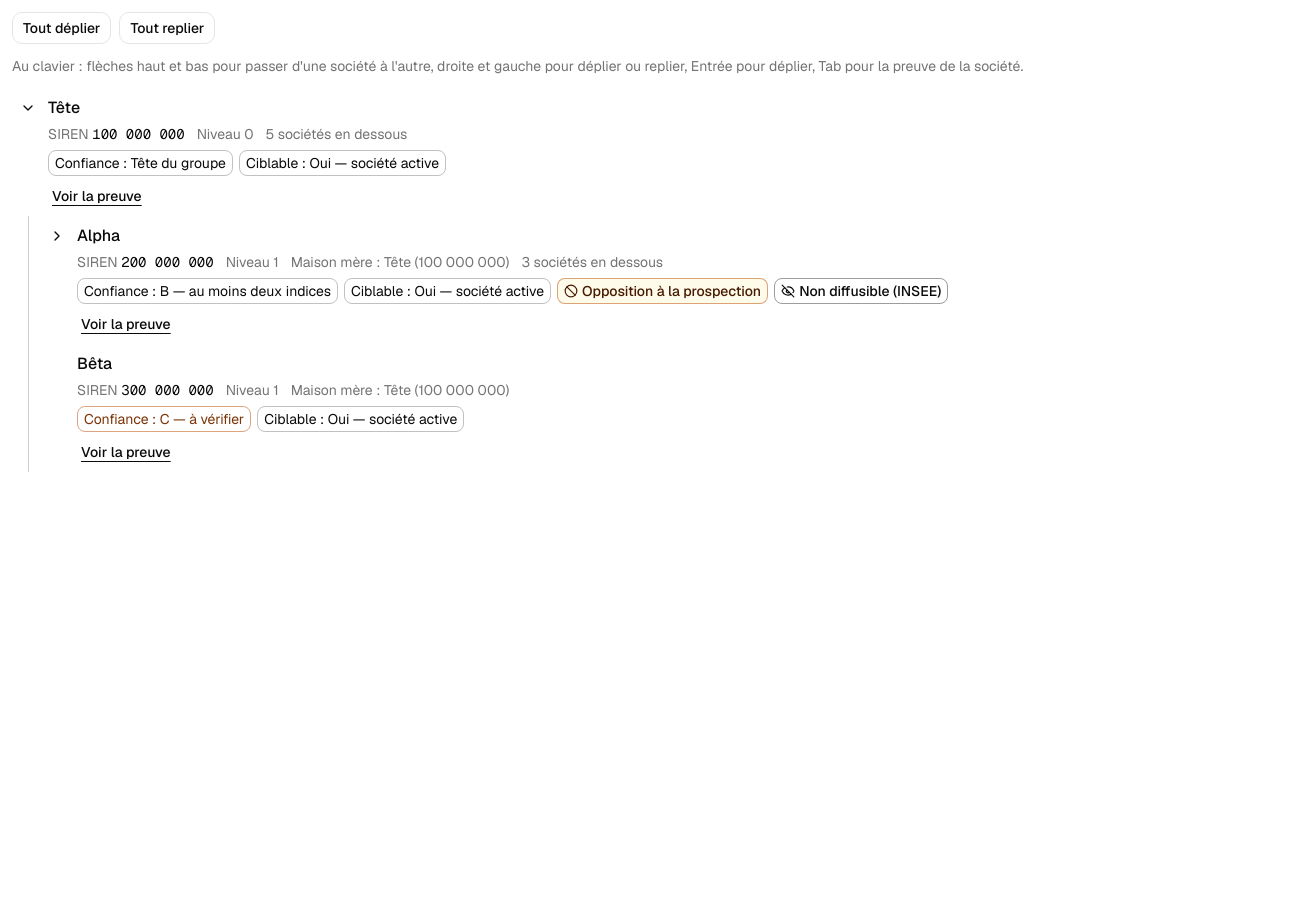
Arbre — navigation au clavier (C1) › Tout déplier et Tout replier ; l'élément actif replié passe à son ancêtre visible
The width and height of the screenshot is (1292, 912).
Click the button "Tout déplier": [62, 28] box [12,12,111,44]
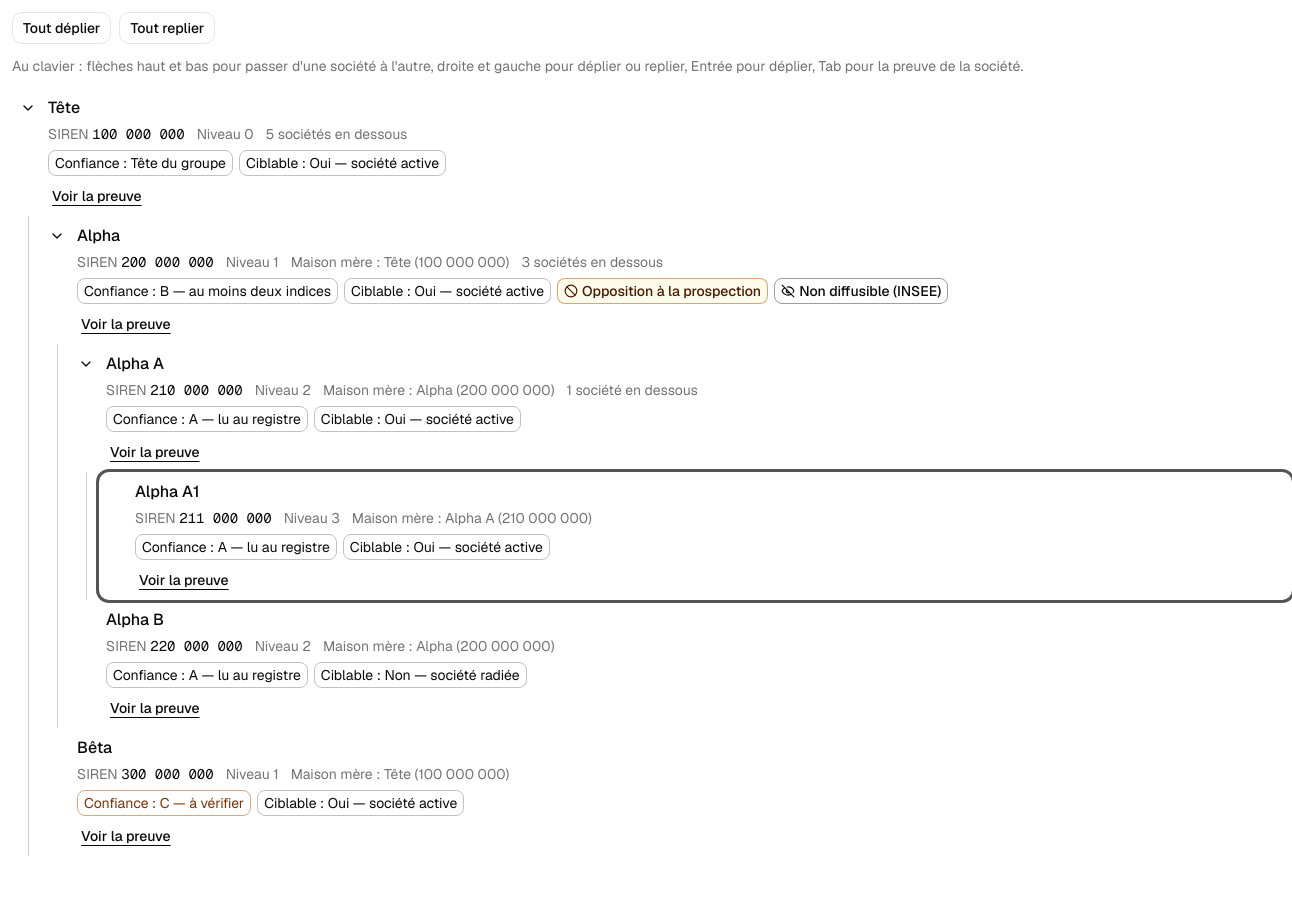
Check: the number of list items is 6
Click the button "Tout replier": [167, 28] box [119,12,215,44]
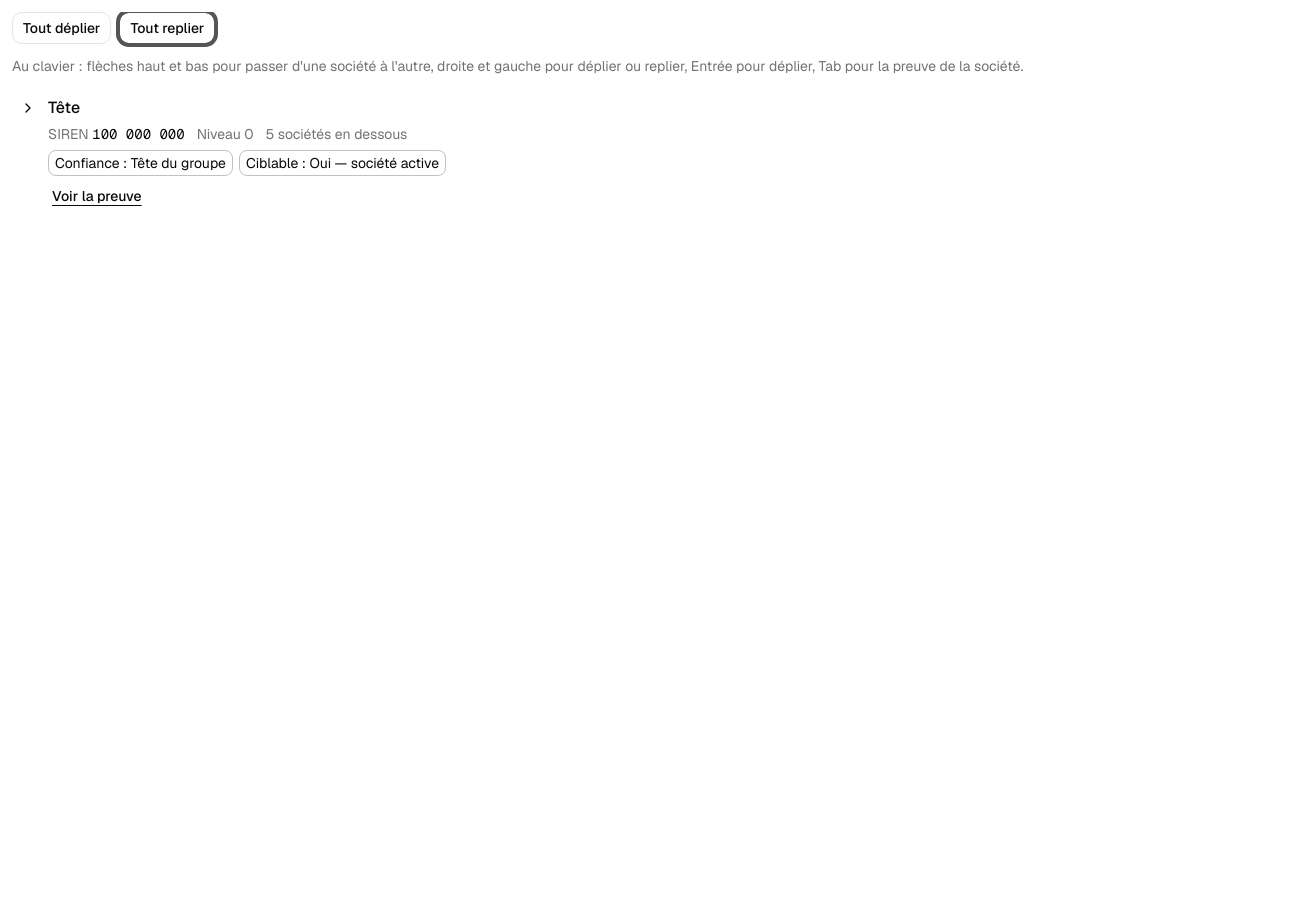
Check: the number of list items is 1, box [20,97,446,205]
